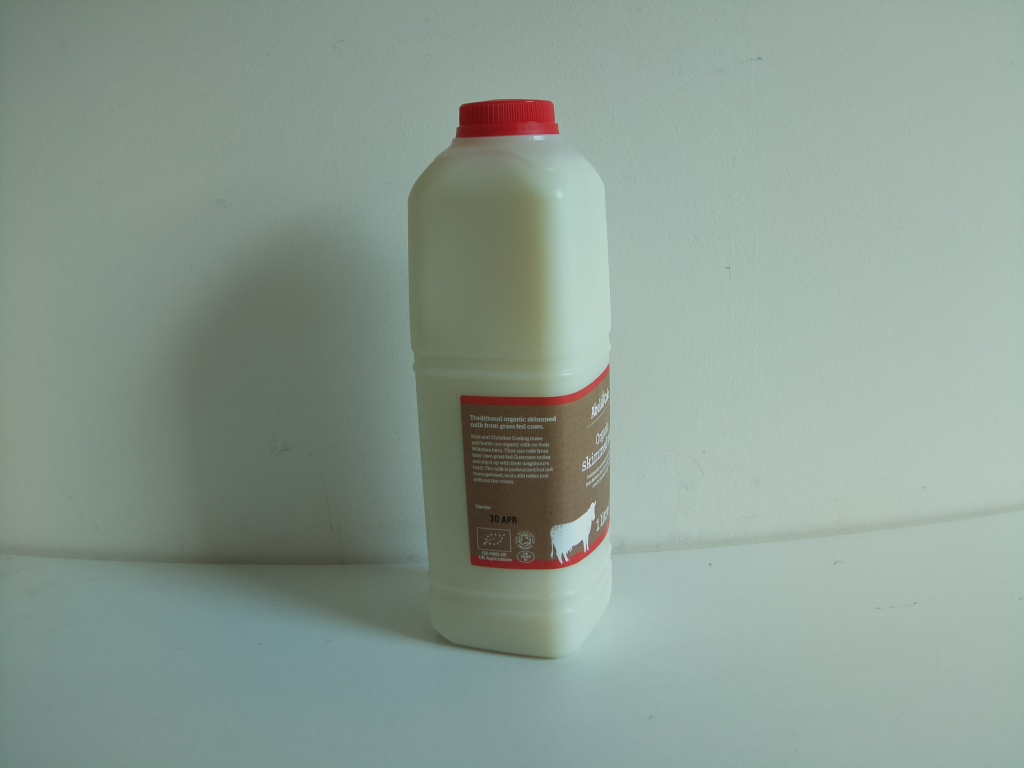milk: (403, 94, 622, 661)
